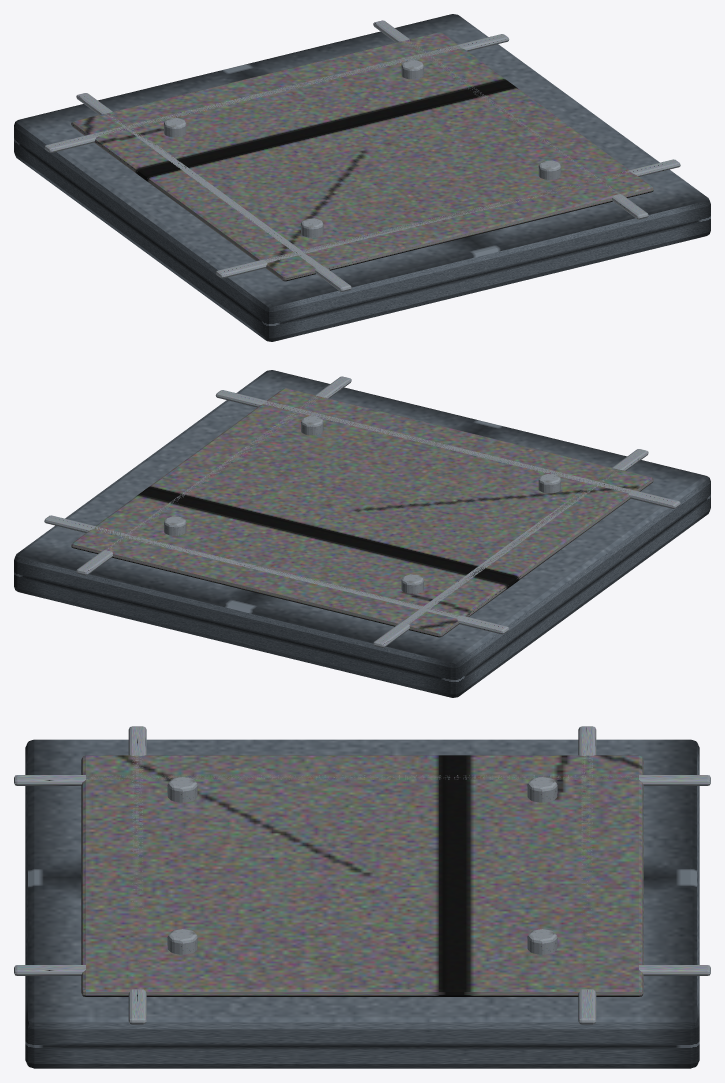
Rendered from deck_6x6.glb.
3 views of the same model, one above another, from view 1: azimuth 30°, elevation 25°; view 2: azimuth 150°, elevation 25°; view 3: azimuth 270°, elevation 25° (orthographic). The views are drawn at different scales.
Visible parts, largest first — view 1: DeckInset, DeckPlate, DeckSeam0, DeckSeamZ0, DeckSeam1, DeckSeamZ1; view 2: DeckInset, DeckPlate, DeckSeam1, DeckSeam0, DeckSeamZ0, DeckSeamZ1; view 3: DeckInset, DeckPlate, DeckSeamZ0, DeckSeamZ1, DeckSeam1, DeckSeam0, DeckBolt0, DeckBolt2, DeckBolt1, DeckBolt3.
Part boxes in pixels (x1,y1,x2,y2): DeckInset: (71, 32, 653, 281); DeckPlate: (14, 14, 710, 341); DeckSeam0: (44, 34, 509, 152); DeckSeamZ0: (76, 93, 351, 291); DeckSeam1: (215, 159, 680, 278); DeckSeamZ1: (373, 20, 648, 219); DeckInset: (71, 388, 653, 637); DeckPlate: (14, 370, 710, 697); DeckSeam1: (215, 390, 680, 508); DeckSeam0: (44, 515, 509, 634); DeckSeamZ0: (373, 449, 648, 647); DeckSeamZ1: (76, 376, 351, 575); DeckInset: (81, 755, 643, 996); DeckPlate: (25, 739, 699, 1068); DeckSeamZ0: (14, 775, 710, 785); DeckSeamZ1: (14, 965, 710, 975); DeckSeam1: (128, 726, 146, 1024); DeckSeam0: (578, 726, 596, 1024); DeckBolt0: (527, 929, 557, 954); DeckBolt2: (167, 929, 197, 954); DeckBolt1: (527, 777, 557, 802); DeckBolt3: (167, 777, 197, 802).
Size of the model in its own units: 6.2 by 0.7 by 6.2.
Materials: 3 (3 with a texture image).
